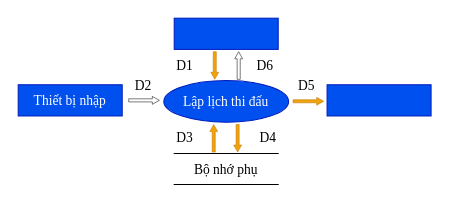
The diagram is 449 pixels wide and 203 high, and some of its shapes have lost their labels. Each missing label, with the centre of its shape:
Người dùng: [225,33]
Thiết bị xuất: [378,100]
